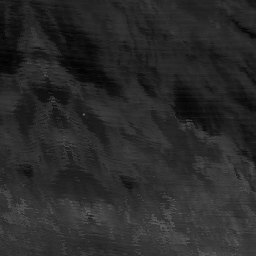Target: (80, 112, 86, 117)
